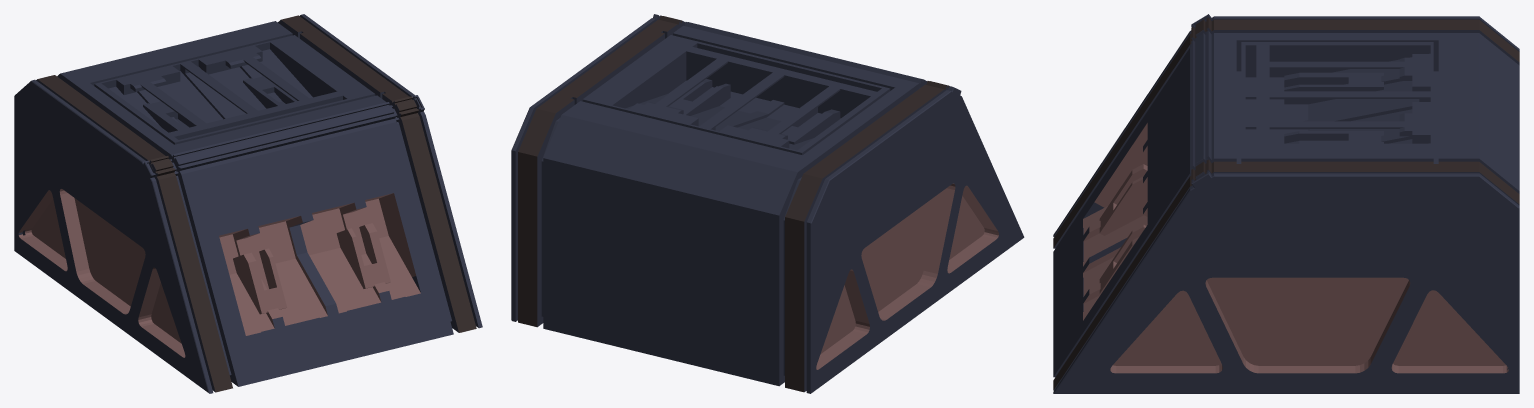
File: 大门基础底层_003.fbx
The picture shows the model from 3 angles, left to right: view 1: azimuth 30°, elevation 25°; view 2: azimuth 150°, elevation 25°; view 3: azimuth 270°, elevation 25°; orthographic projection. The views are drawn at different scales.
Visible parts, largest first — view 1: 大门基础底层.003; view 2: 大门基础底层.003; view 3: 大门基础底层.003.
Boxes of the visible parts, x1,y1,x2,y2 form: 大门基础底层.003: (14, 14, 482, 393); 大门基础底层.003: (511, 14, 1024, 393); 大门基础底层.003: (1053, 14, 1519, 393).
Size of the model in its own units: 2.64 by 1.7 by 3.26.
